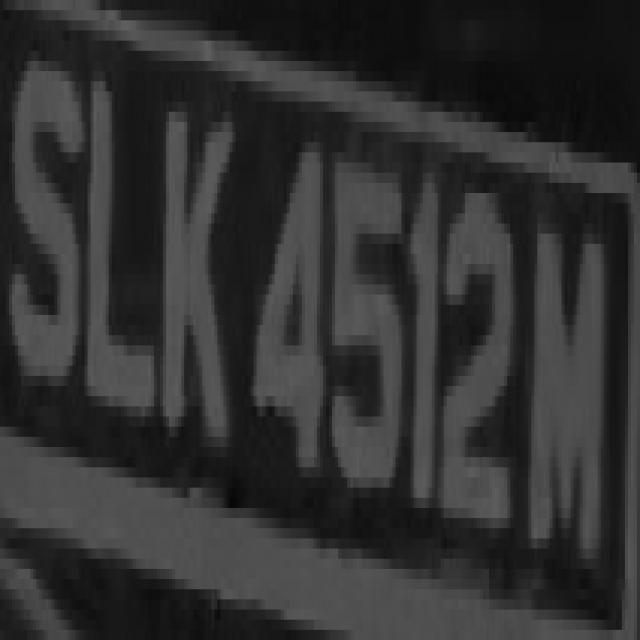1: (407, 142, 450, 528)
2: (450, 183, 516, 569)
4: (248, 112, 335, 508)
5: (335, 112, 405, 508)
K: (160, 61, 232, 488)
L: (81, 51, 157, 437)
M: (525, 163, 610, 589)
S: (15, 20, 79, 427)
